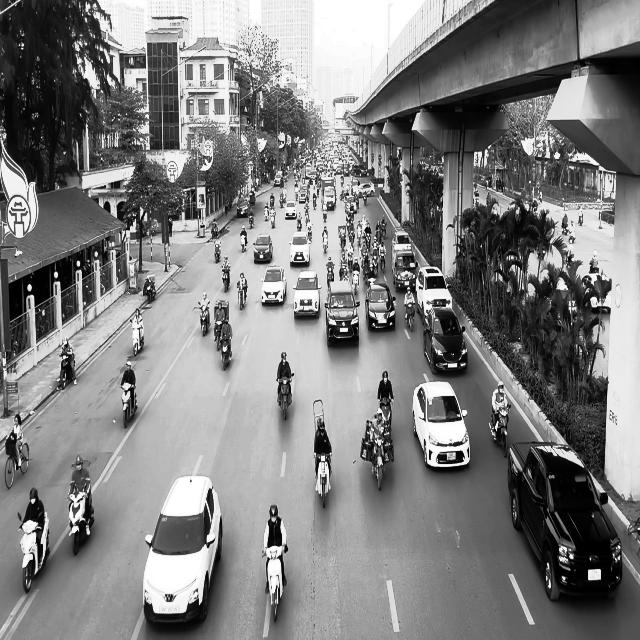car: (506, 440, 623, 602), (142, 474, 222, 624), (412, 380, 470, 470), (422, 306, 468, 374), (324, 283, 360, 347), (292, 270, 322, 320), (365, 282, 396, 330), (260, 265, 286, 306), (289, 231, 310, 266), (253, 234, 273, 263), (237, 198, 250, 217), (285, 200, 297, 218)
motorbike: (17, 510, 50, 593), (67, 487, 94, 555), (263, 547, 284, 622), (4, 435, 29, 489), (488, 404, 511, 457), (314, 451, 332, 508), (276, 372, 294, 420), (120, 382, 138, 428), (370, 437, 385, 491), (58, 354, 77, 389), (218, 332, 232, 370), (198, 302, 211, 336), (132, 320, 144, 356), (236, 282, 247, 310), (221, 266, 230, 292), (240, 231, 247, 253), (213, 240, 220, 262)
